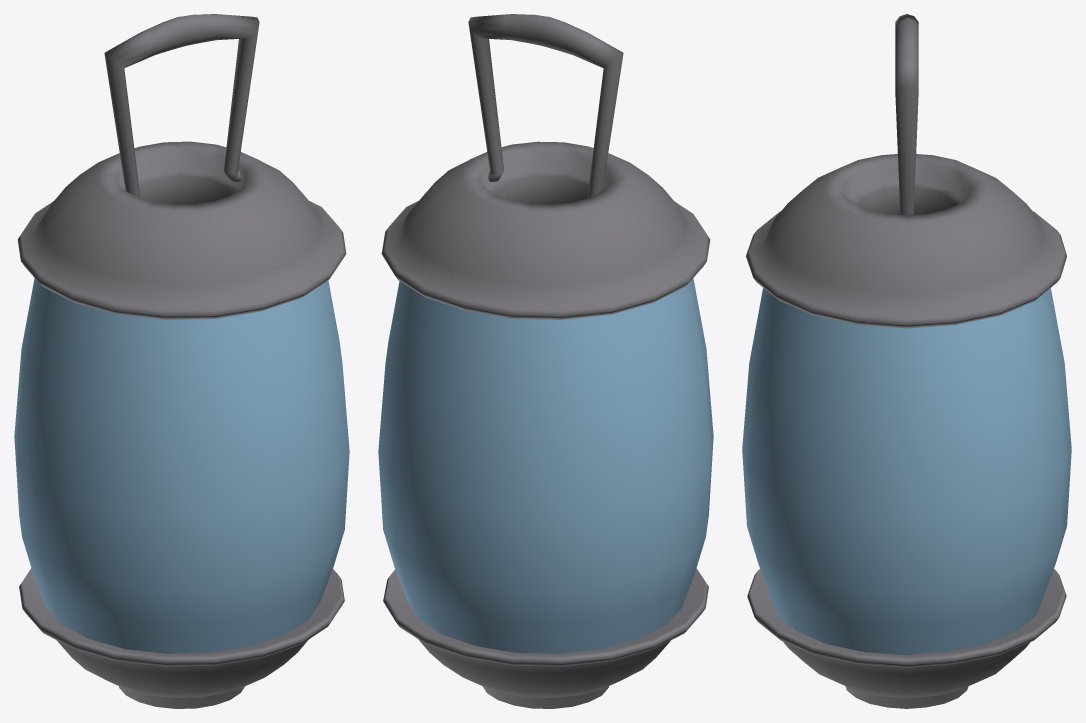
File: Lantern2.fbx
The picture shows the model from 3 angles, left to right: view 1: azimuth 30°, elevation 25°; view 2: azimuth 150°, elevation 25°; view 3: azimuth 270°, elevation 25°; orthographic projection. The views are drawn at different scales.
Visible parts, largest first — view 1: lantern_001; view 2: lantern_001; view 3: lantern_001.
Boxes of the visible parts, x1,y1,x2,y2 form: lantern_001: (14,14,349,708); lantern_001: (378,14,713,708); lantern_001: (742,14,1071,708).
Size of the model in its own units: 26.55 by 57.78 by 26.51.
